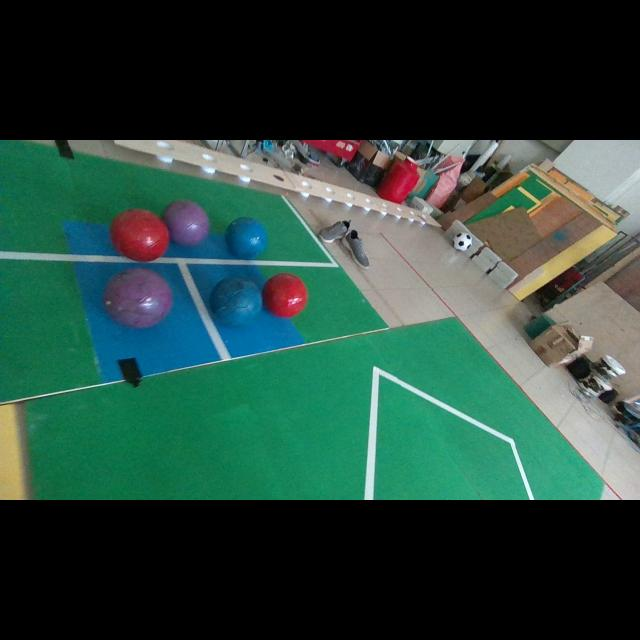P: (102, 268, 172, 328), (211, 278, 262, 326), (162, 200, 209, 246)
R: (109, 209, 169, 261), (262, 272, 308, 317)
